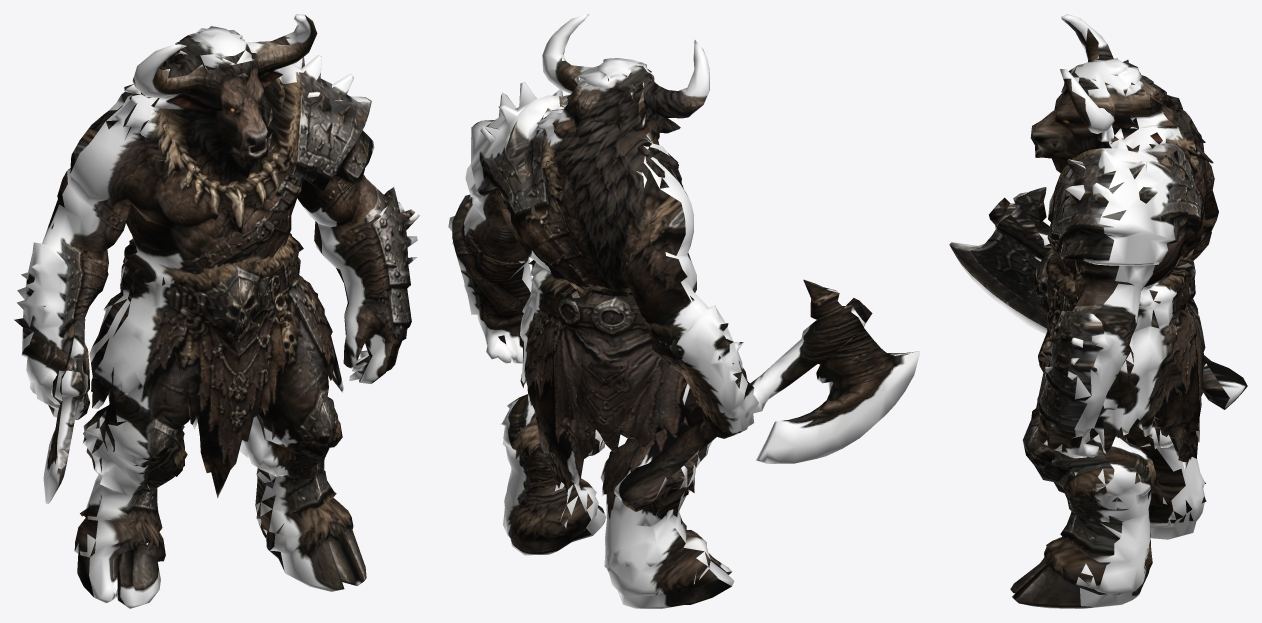
The model's file is minotaur.glb.
3 renders of one model, left to right at view 1: azimuth 30°, elevation 25°; view 2: azimuth 150°, elevation 25°; view 3: azimuth 270°, elevation 25°, orthographic. The views are drawn at different scales.
Parts seen in each view (by area): view 1: world; view 2: world; view 3: world.
Boxes of the visible parts, left/top/right/bottom form: world: left=14, top=14, right=419, bottom=608; world: left=448, top=14, right=920, bottom=608; world: left=949, top=14, right=1247, bottom=608.
Size of the model in its own units: 1.44 by 1.8 by 0.9446.
Materials: 1 (1 with a texture image).
